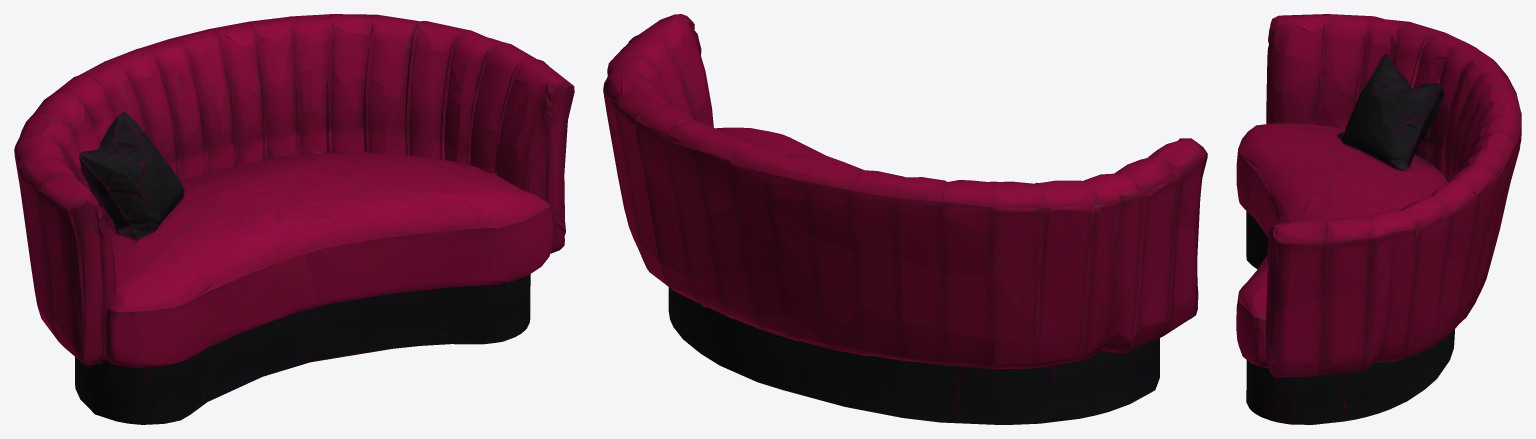
File: banquette.glb
The picture shows the model from 3 angles, left to right: view 1: azimuth 30°, elevation 25°; view 2: azimuth 150°, elevation 25°; view 3: azimuth 270°, elevation 25°; orthographic projection. The views are drawn at different scales.
Bounding box in the file's own units: 1.9 × 0.8661 × 1.01.
1 material, 1 textured.
